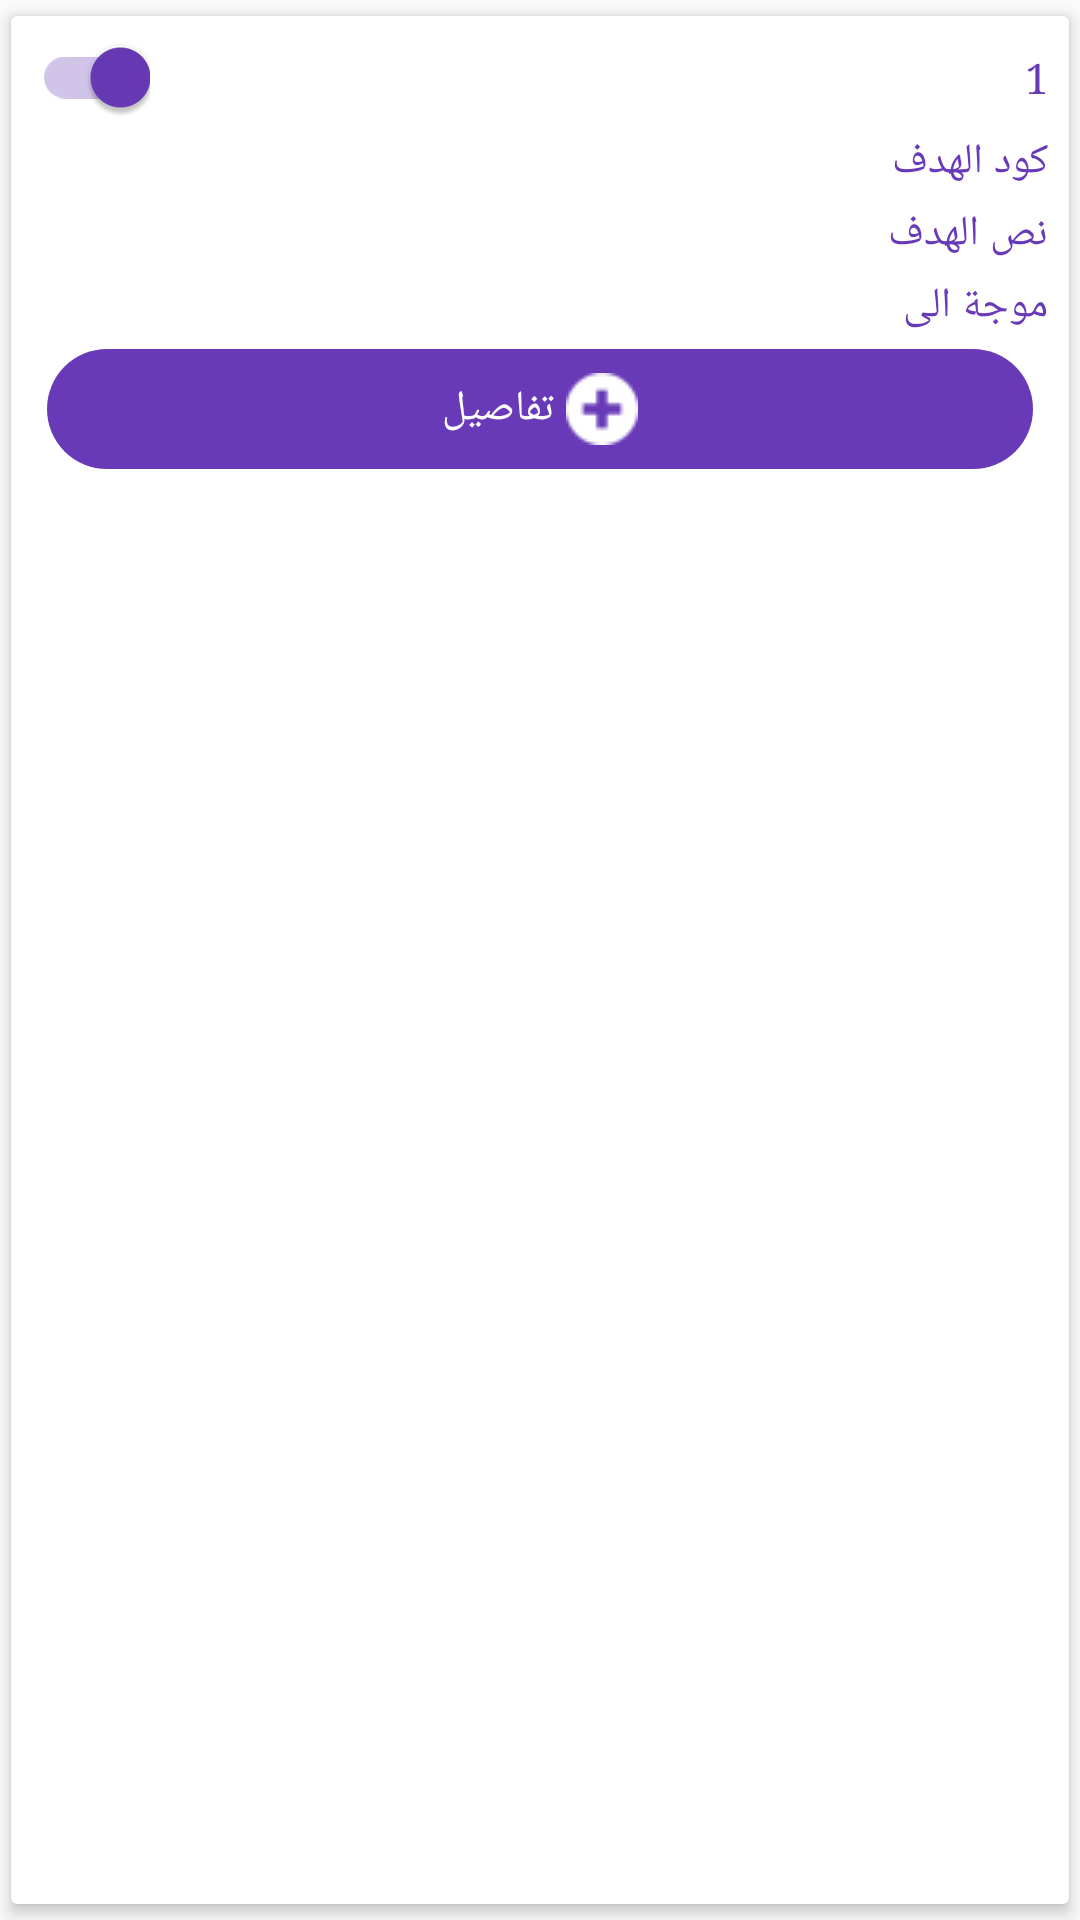

Where to tap for icons on this 1080×1920 app screen, as point (x, y):
plus: point (602, 409)
